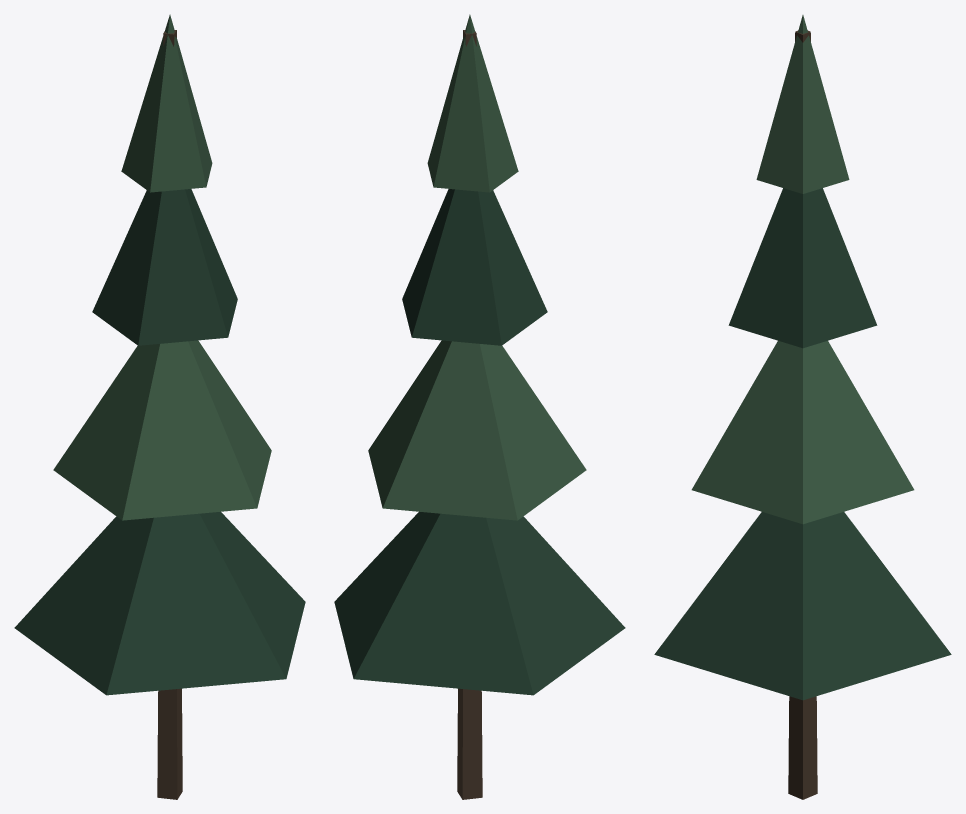
Rendered from pine_tall_lod2.glb.
3 views of the same model, side by side, from view 1: azimuth 30°, elevation 25°; view 2: azimuth 150°, elevation 25°; view 3: azimuth 270°, elevation 25° (orthographic).
Parts seen in each view (by area): view 1: pine_tall_lod2; view 2: pine_tall_lod2; view 3: pine_tall_lod2.
Part boxes in pixels (bbox=[...]): pine_tall_lod2: bbox=[14, 14, 305, 799]; pine_tall_lod2: bbox=[334, 14, 625, 799]; pine_tall_lod2: bbox=[654, 15, 951, 799].
Size of what is drawn, in the model's own units: 2.89 by 8.8 by 3.04.
Materials: 1 (1 with a texture image).
